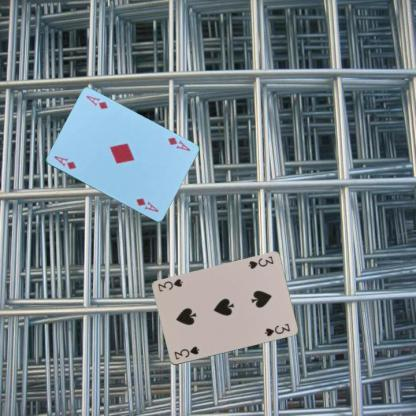3s: (172, 344, 200, 362), (245, 254, 274, 270)
Ad: (51, 153, 77, 171), (165, 134, 191, 152)
